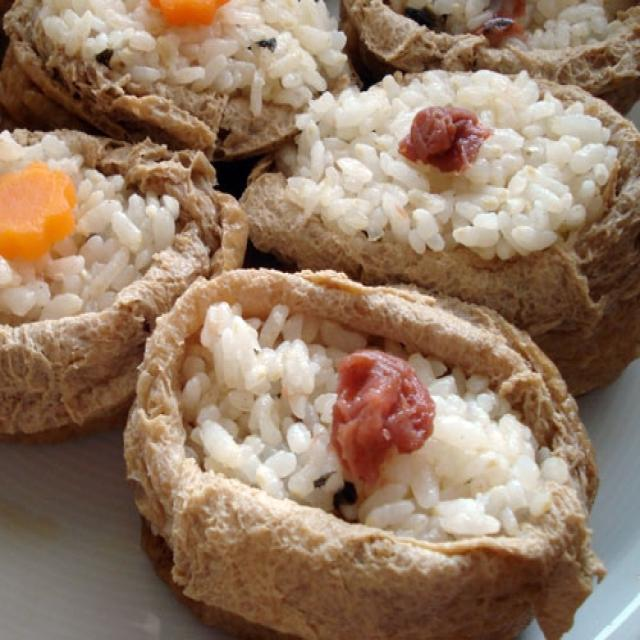寿司卷物: (15, 15, 617, 610)
